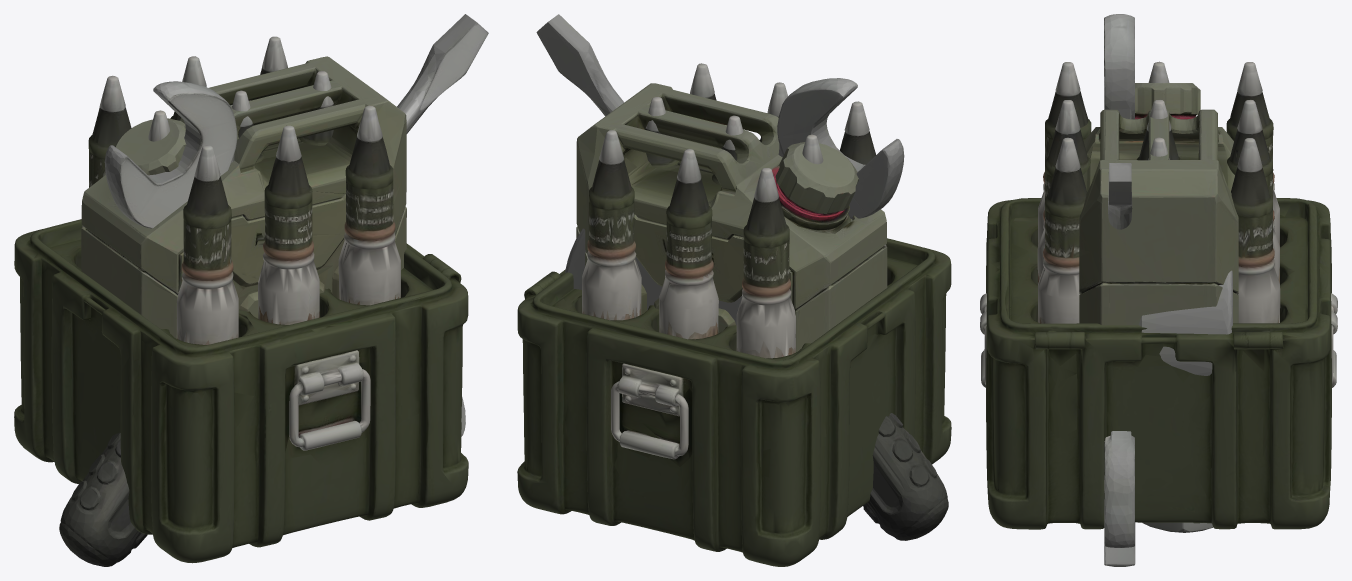
The model's file is power-ups.glb.
3 renders of one model, left to right at view 1: azimuth 30°, elevation 25°; view 2: azimuth 150°, elevation 25°; view 3: azimuth 270°, elevation 25°, orthographic. The views are drawn at different scales.
Parts seen in each view (by area): view 1: mesh_ammo_shell, mesh_fuel, mesh_repair; view 2: mesh_ammo_shell, mesh_fuel, mesh_repair; view 3: mesh_ammo_shell, mesh_fuel, mesh_repair.
Boxes of the visible parts, <box> form: mesh_ammo_shell: <box>14,36,468,563</box>; mesh_fuel: <box>81,56,406,338</box>; mesh_repair: <box>59,14,488,566</box>; mesh_ammo_shell: <box>517,63,951,566</box>; mesh_fuel: <box>576,83,887,352</box>; mesh_repair: <box>536,14,948,540</box>; mesh_ammo_shell: <box>980,61,1337,529</box>; mesh_fuel: <box>1079,83,1238,523</box>; mesh_repair: <box>1104,14,1232,566</box>.
Bounding box in the file's own units: 0.5156 × 0.54 × 0.396.
3 materials, 3 textured.
